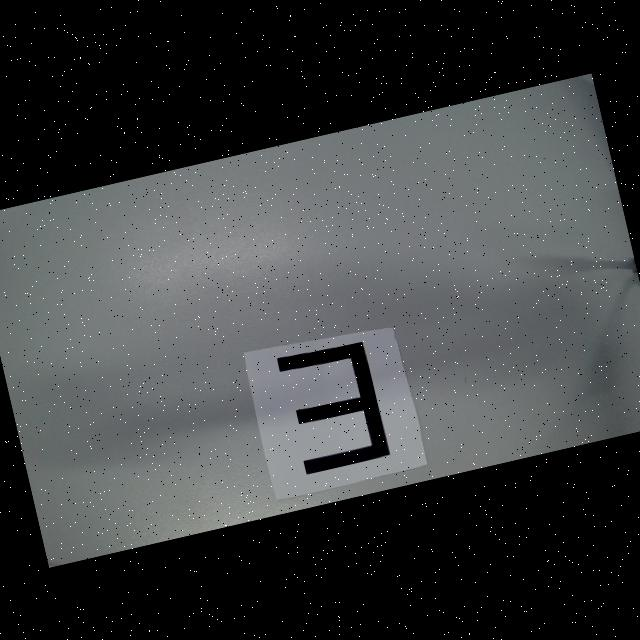FAKE: (277, 336, 390, 474)
